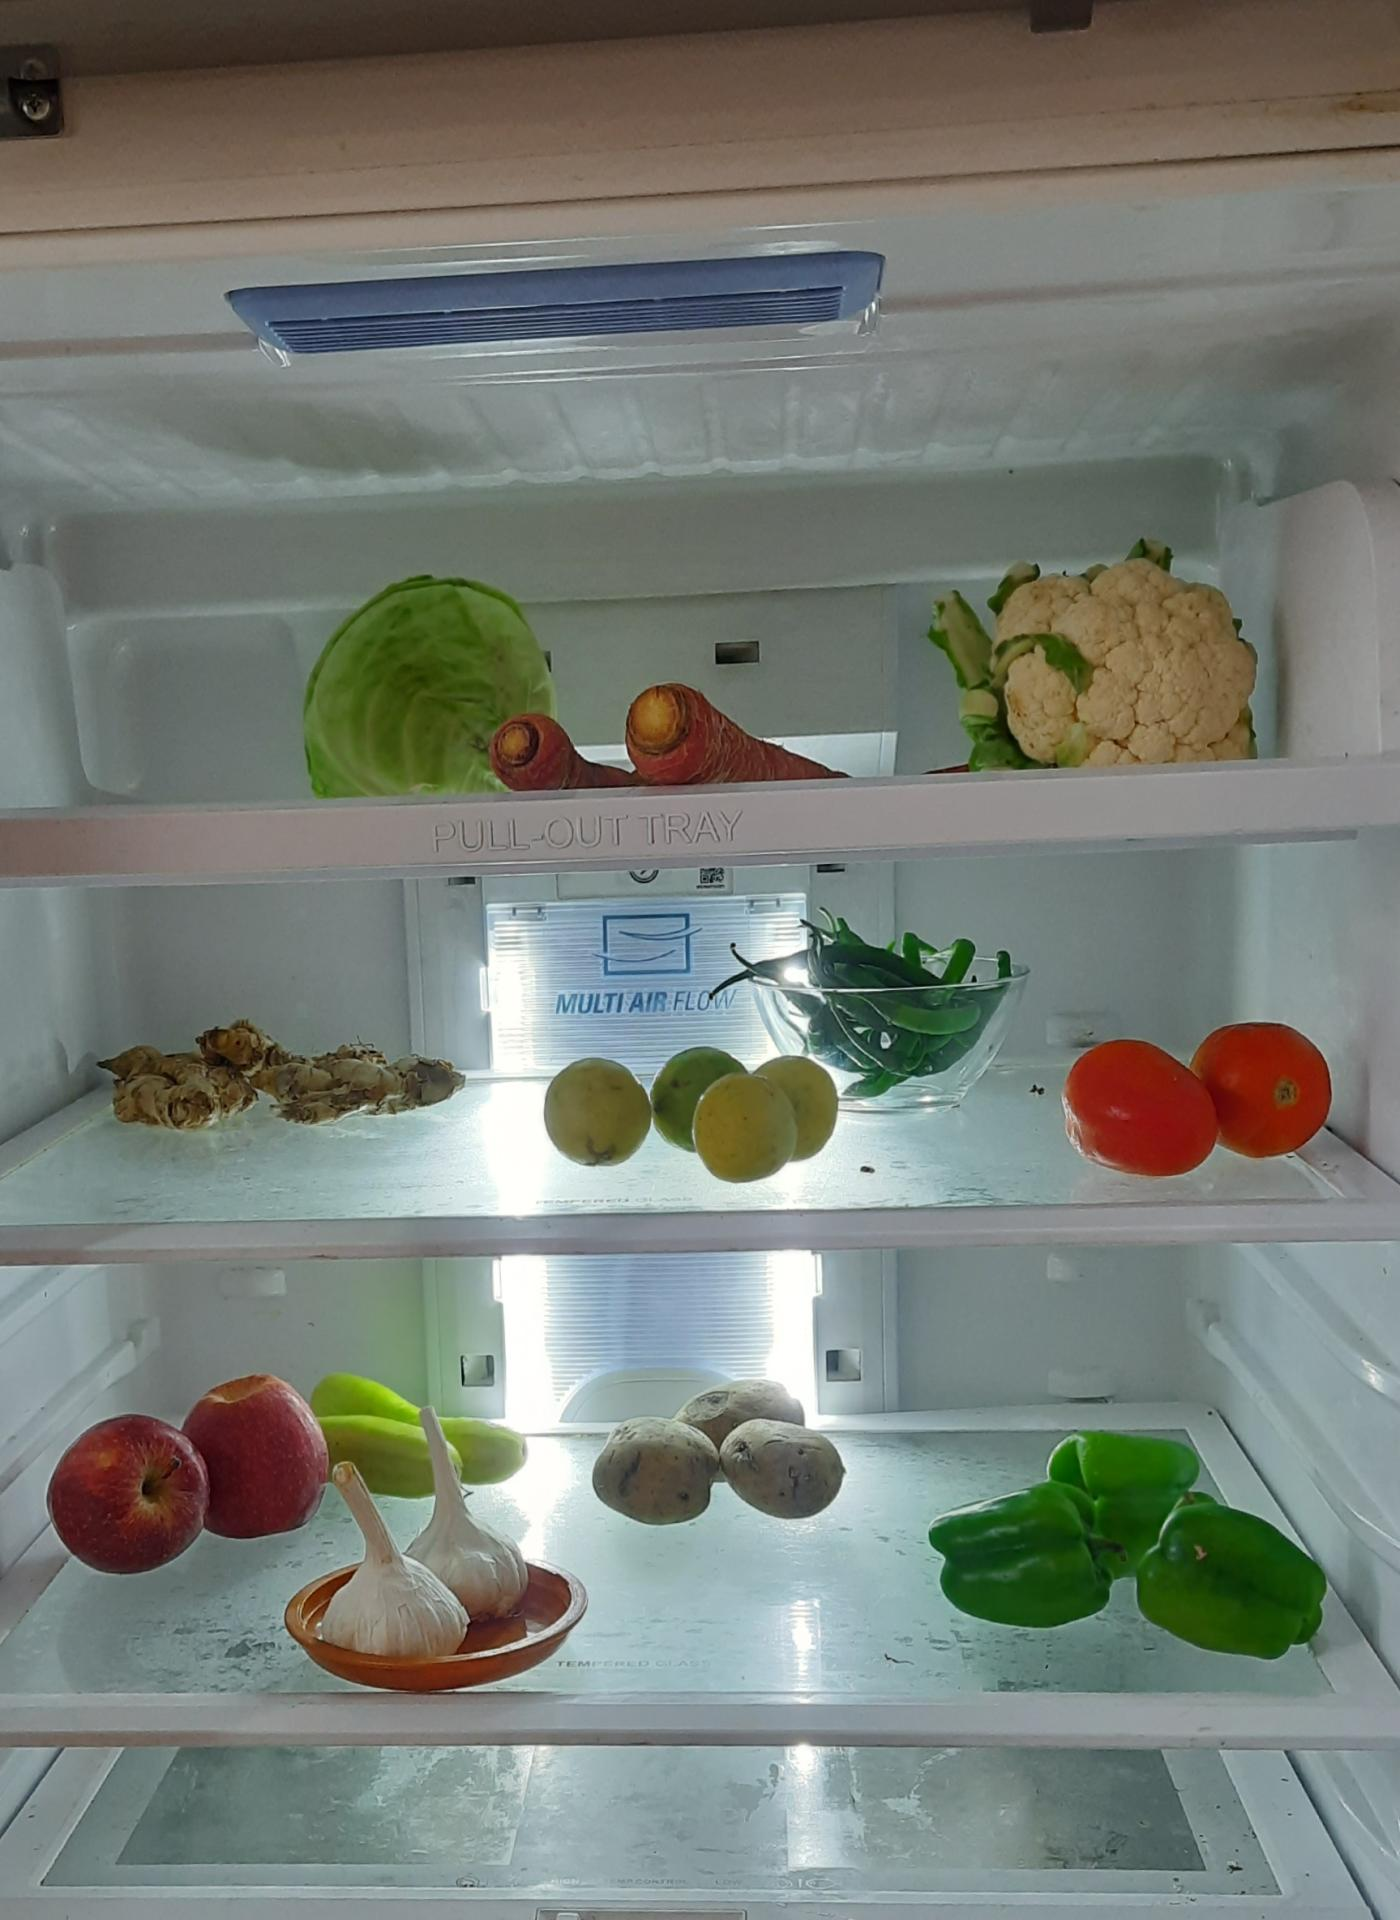apple: (58, 1368, 315, 1571)
cabbage: (297, 572, 561, 789)
capsicum: (917, 1410, 1321, 1644)
carrots: (480, 693, 856, 802)
cauliflower: (944, 537, 1260, 766)
chillies: (781, 914, 1009, 1097)
cucumber: (315, 1377, 535, 1497)
garlic: (303, 1412, 593, 1656)
ginger: (104, 1017, 468, 1133)
lemon: (540, 1040, 844, 1176)
potato: (590, 1379, 854, 1531)
tomato: (1069, 1020, 1340, 1175)
